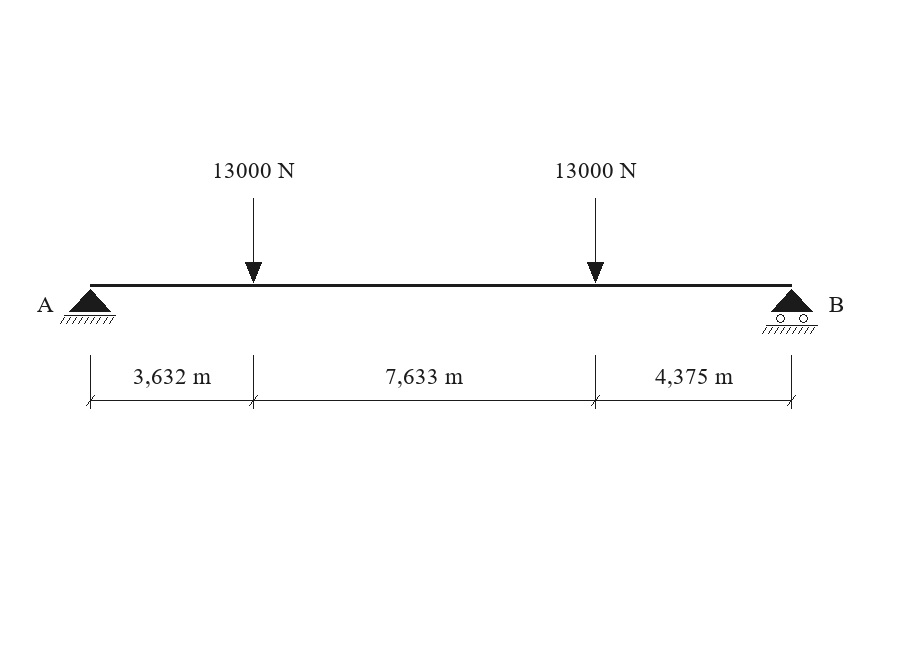pin_support: (60, 289, 116, 324)
point_load: (245, 198, 262, 283), (587, 198, 604, 283)
roller_support: (762, 289, 818, 334)
